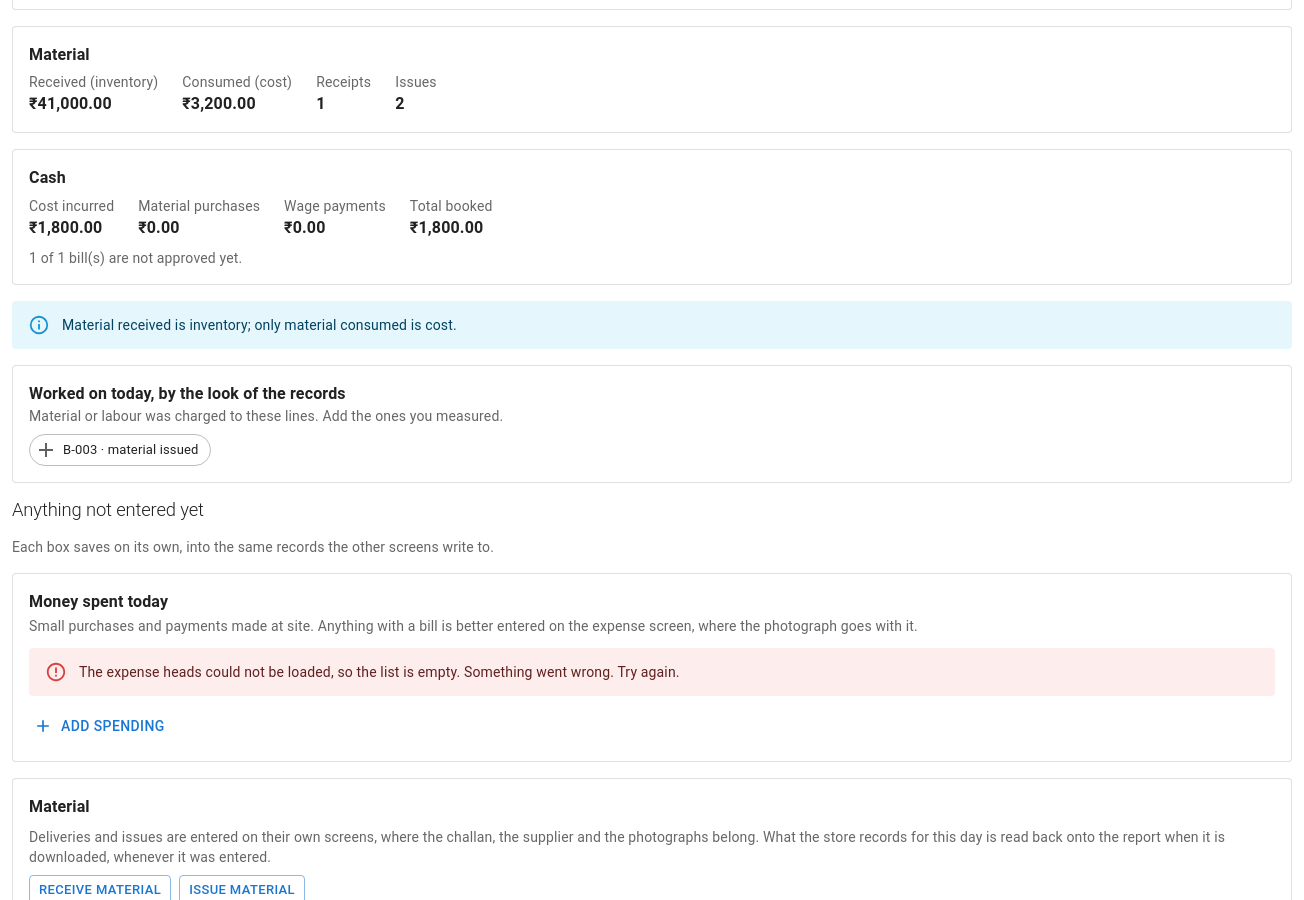
it: DprWizardPage › turns a suggested work item into a line without claiming a quantity
(page scrolled)
Step 1. Click the button "B-003 · material issued" → (120, 450), box [29,434,210,466]
(page scrolled)
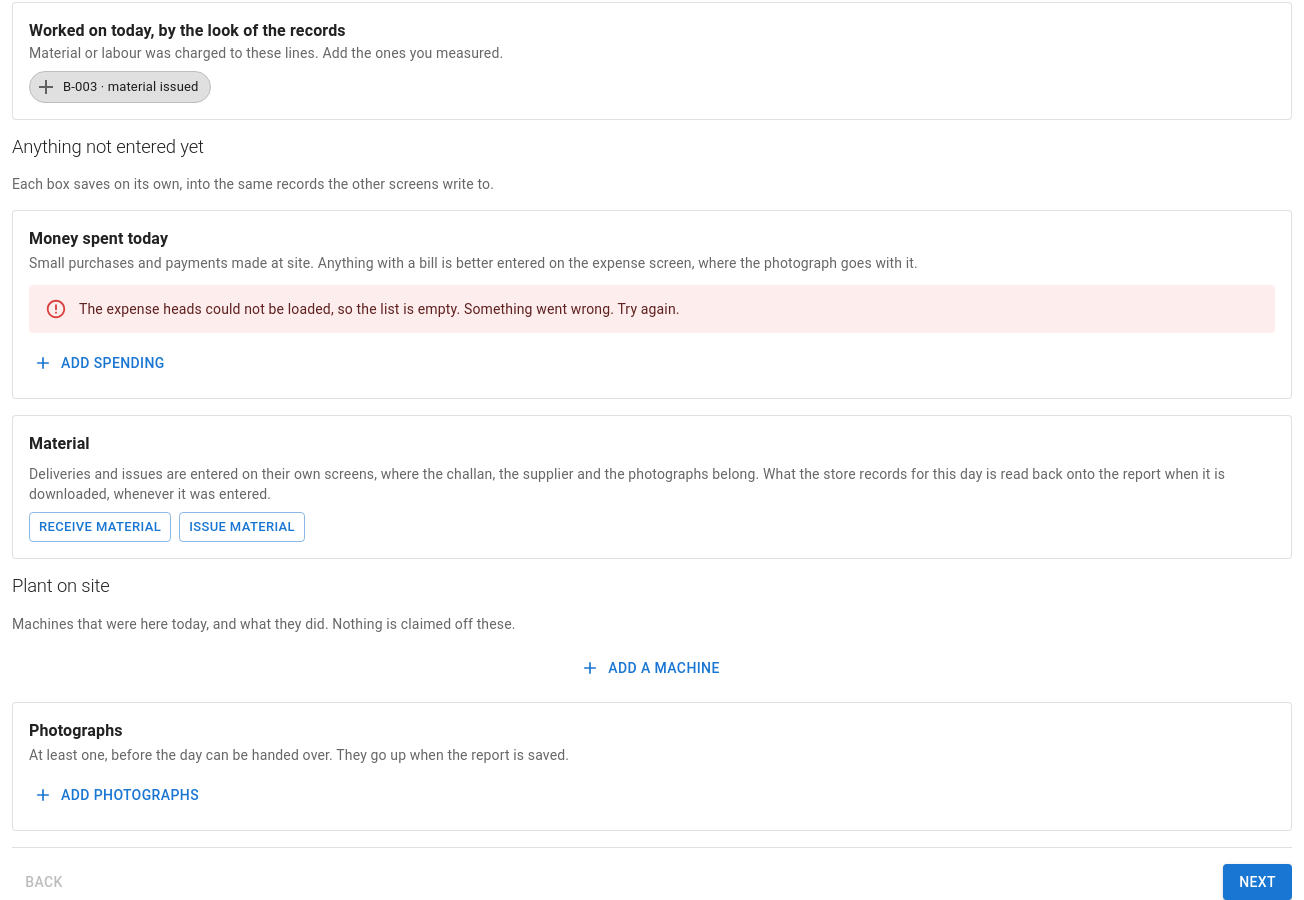
Step 2. Click the button "Next" → (1258, 882), box [1223,864,1292,899]
(page scrolled)
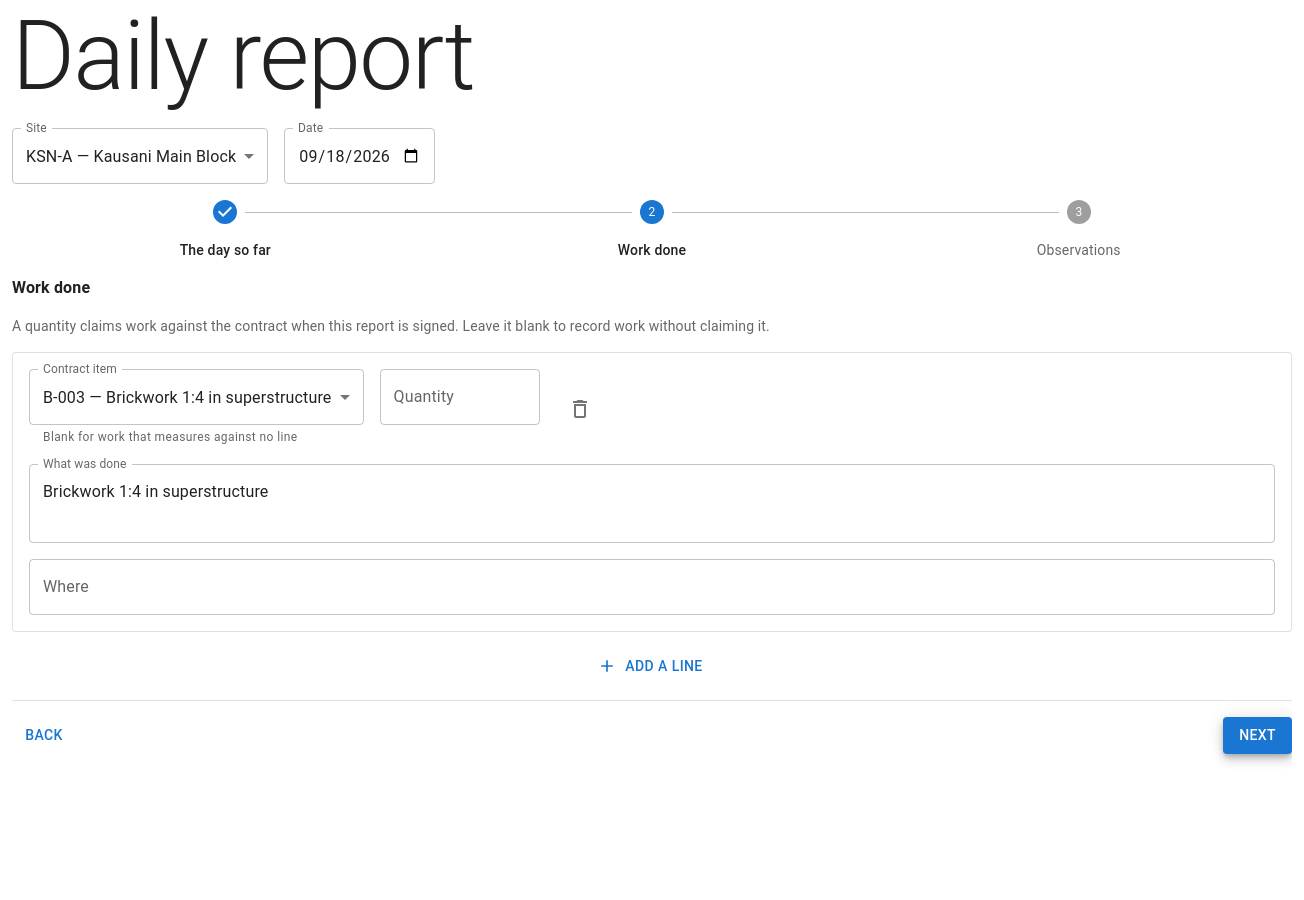
Now the text box labelled "What was done" holds "Brickwork 1:4 in superstructure", box [43,480,1261,526]
Now the number field labelled "Quantity" is not empty, box [380,369,540,425]
